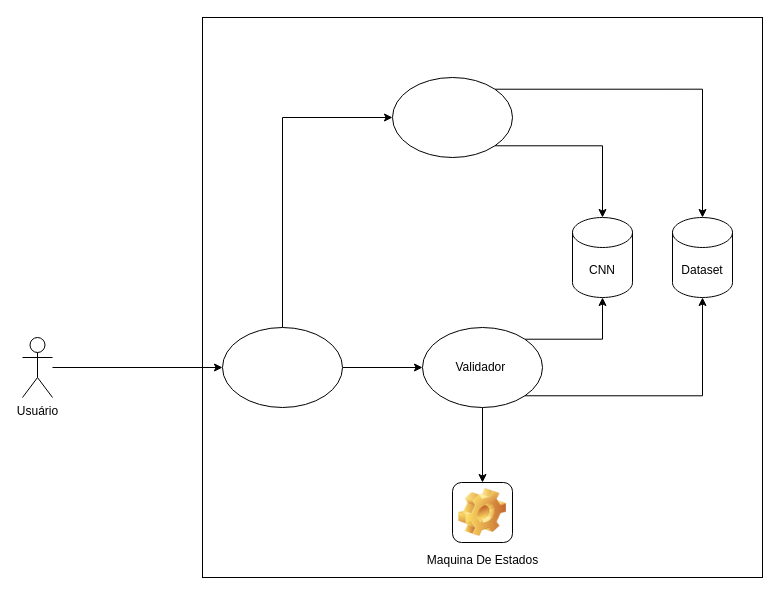
The diagram is 780 pixels wide and 595 high, and some of its shapes have lost their labels. The shapes that lost their labels are listed below. From the top down, each one's centre as x and y in pixels, then its label:
At [452,117]: "Treinar Imagem".
At [282,367]: "Interface De atividades".
